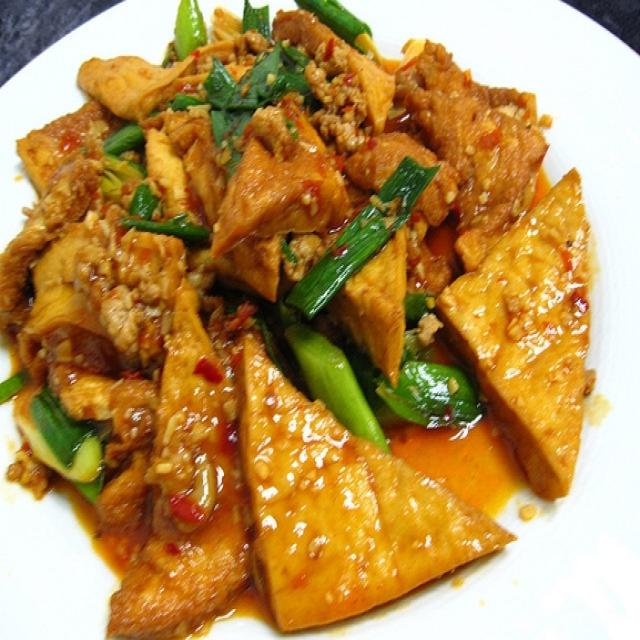豆腐料理: (5, 4, 629, 618)
